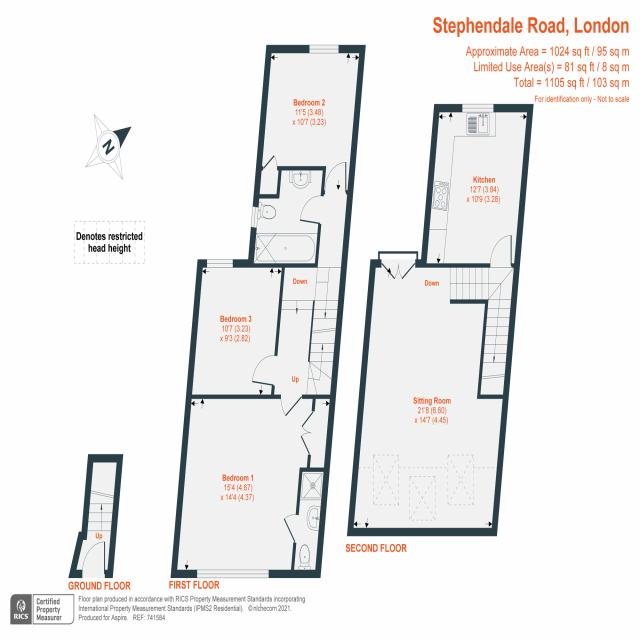DOOR: (81, 540, 107, 579), (251, 354, 278, 388), (489, 234, 513, 268), (324, 161, 347, 195), (299, 194, 324, 225), (280, 394, 303, 418), (283, 513, 299, 544)
DOUBLE DOOR: (381, 259, 416, 281), (300, 410, 315, 456)
ROOM: (346, 233, 521, 537), (170, 394, 316, 578), (419, 104, 534, 267), (255, 45, 366, 195), (186, 259, 286, 399)
WINDOW: (196, 569, 270, 579), (461, 103, 494, 113), (309, 44, 339, 54), (206, 259, 234, 269), (250, 205, 259, 229)
